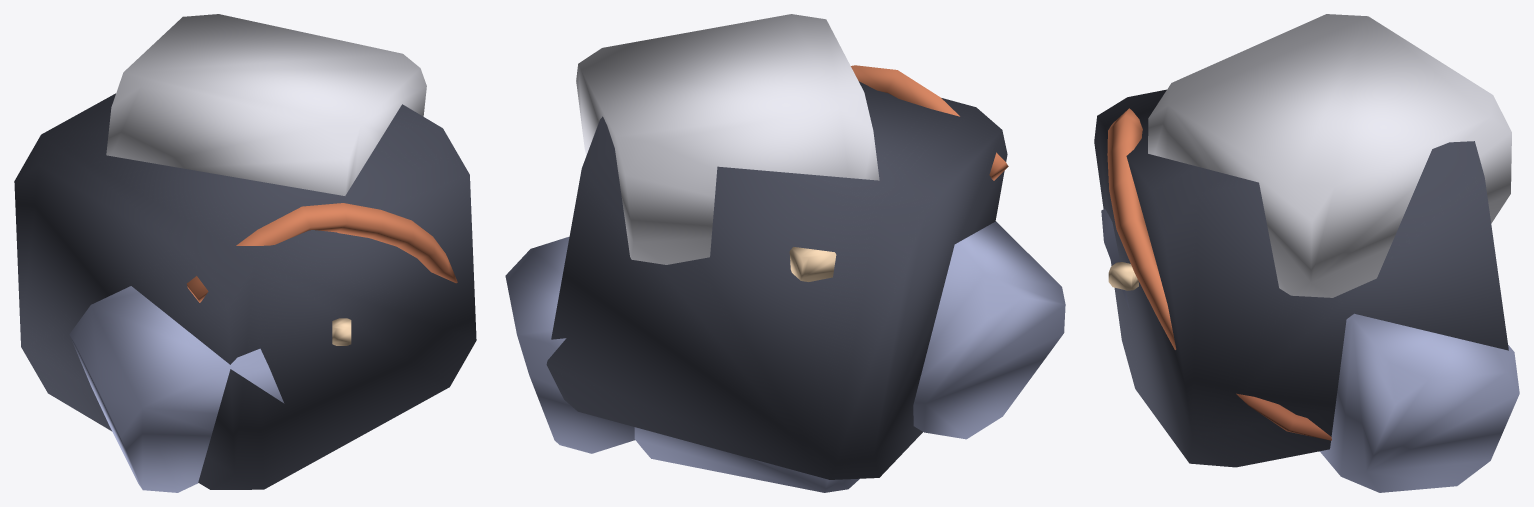
Rendered from boulder.glb.
The picture shows the model from 3 angles, left to right: view 1: azimuth 30°, elevation 25°; view 2: azimuth 150°, elevation 25°; view 3: azimuth 270°, elevation 25°; orthographic projection. The views are drawn at different scales.
Visible parts, largest first — view 1: body; view 2: body; view 3: body.
Boxes of the visible parts, x1,y1,x2,y2 form: body: (14,14,476,492); body: (505,14,1065,492); body: (1094,14,1519,492).
Bounding box in the file's own units: 0.7589 × 0.6143 × 0.645.
